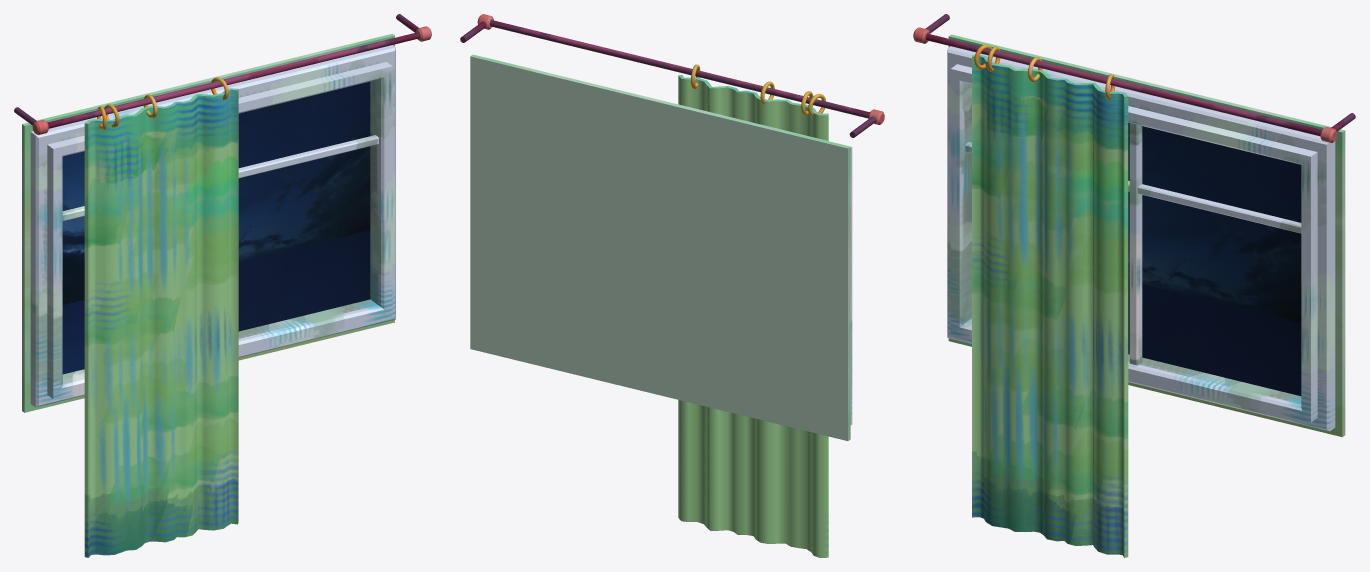
Rendered from window.gltf.
3 views of the same model, side by side, from view 1: azimuth 30°, elevation 25°; view 2: azimuth 150°, elevation 25°; view 3: azimuth 330°, elevation 25° (orthographic). The views are drawn at different scales.
Visible parts, largest first — view 1: curtain, windowimage, windowFrame, wallBack, curtainRod; view 2: wallBack, curtain, curtainRod, windowFrame; view 3: curtain, windowimage, windowFrame, wallBack, curtainRod.
Part boxes in pixels (bbox=[...]): curtain: bbox=[84, 88, 238, 557]; windowimage: bbox=[62, 81, 370, 374]; windowFrame: bbox=[30, 45, 395, 407]; wallBack: bbox=[22, 33, 394, 412]; curtainRod: bbox=[14, 14, 431, 135]; wallBack: bbox=[470, 54, 850, 440]; curtain: bbox=[678, 74, 828, 557]; curtainRod: bbox=[460, 14, 884, 137]; windowFrame: bbox=[485, 57, 852, 425]; curtain: bbox=[972, 54, 1128, 557]; windowimage: bbox=[1128, 122, 1301, 395]; windowFrame: bbox=[947, 46, 1335, 431]; wallBack: bbox=[948, 34, 1345, 437]; curtainRod: bbox=[913, 14, 1355, 142].
Bounding box in the file's own units: 13.61 × 14.8 × 1.87.
7 materials, 7 textured.
